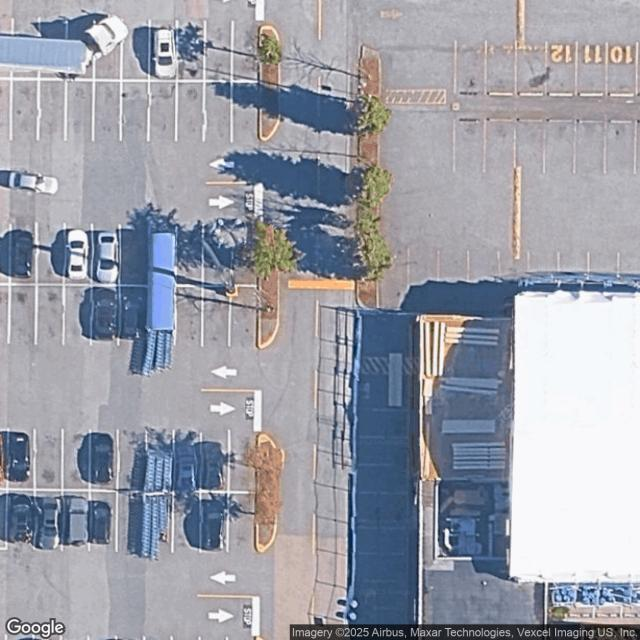car: (200, 496, 226, 550), (92, 290, 117, 340), (95, 231, 118, 282), (37, 497, 59, 550), (174, 444, 198, 491), (10, 495, 33, 543), (67, 230, 89, 278), (8, 432, 30, 480), (155, 28, 176, 78), (91, 434, 113, 481), (120, 292, 142, 339), (67, 496, 88, 544), (202, 442, 224, 487), (12, 231, 33, 276), (91, 501, 111, 544)
lot_boundary: (1, 0, 639, 638)
